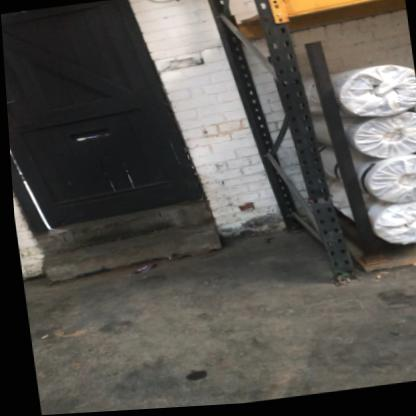vertical_damage: (304, 183, 341, 219)
